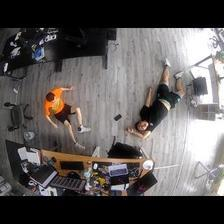fall: (129, 58, 186, 138), (40, 85, 92, 149)
